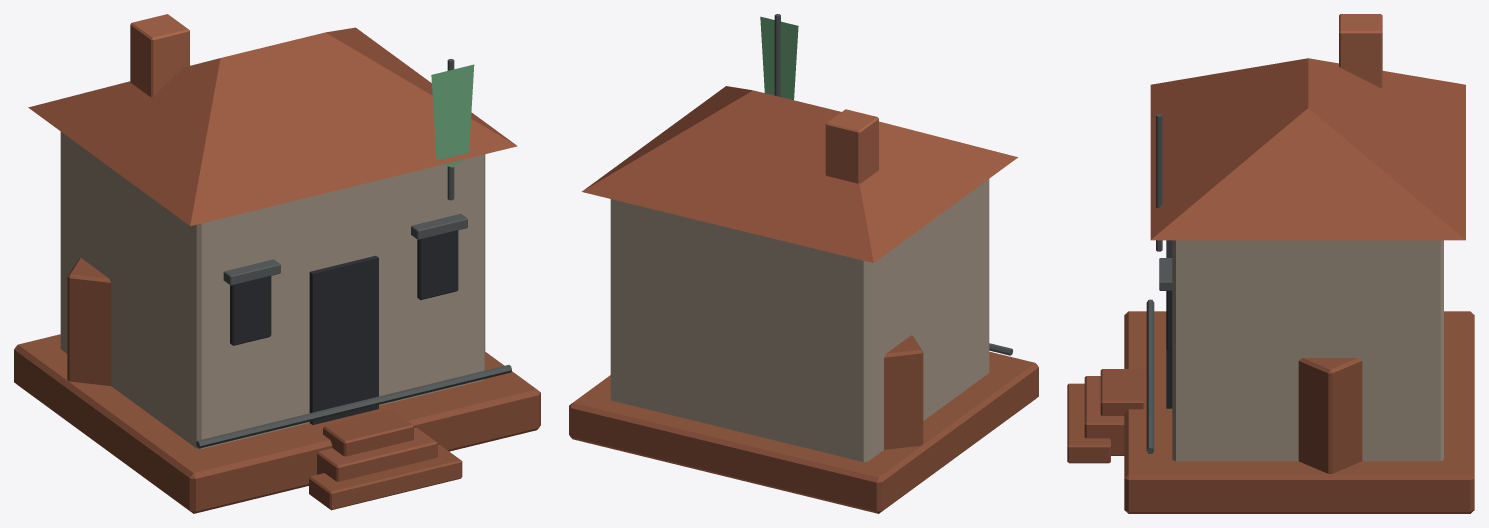
Rendered from edificio-house-e3-SLfZJRfS.glb.
3 renders of one model, left to right at view 1: azimuth 30°, elevation 25°; view 2: azimuth 150°, elevation 25°; view 3: azimuth 270°, elevation 25°, orthographic. The views are drawn at different scales.
Parts seen in each view (by area): view 1: casa_e3_envolvente, casa_e3_detalles, casa_e3_team_color; view 2: casa_e3_envolvente, casa_e3_detalles, casa_e3_team_color; view 3: casa_e3_envolvente, casa_e3_detalles.
Boxes of the visible parts, <box> form: casa_e3_envolvente: <box>14,132,540,513</box>; casa_e3_detalles: <box>28,14,517,448</box>; casa_e3_team_color: <box>431,64,474,167</box>; casa_e3_envolvente: <box>569,179,1038,513</box>; casa_e3_detalles: <box>582,14,1017,355</box>; casa_e3_team_color: <box>760,16,798,100</box>; casa_e3_envolvente: <box>1067,240,1474,513</box>; casa_e3_detalles: <box>1146,14,1465,453</box>.
Size of the model in its own units: 45 by 46.5 by 46.5.
